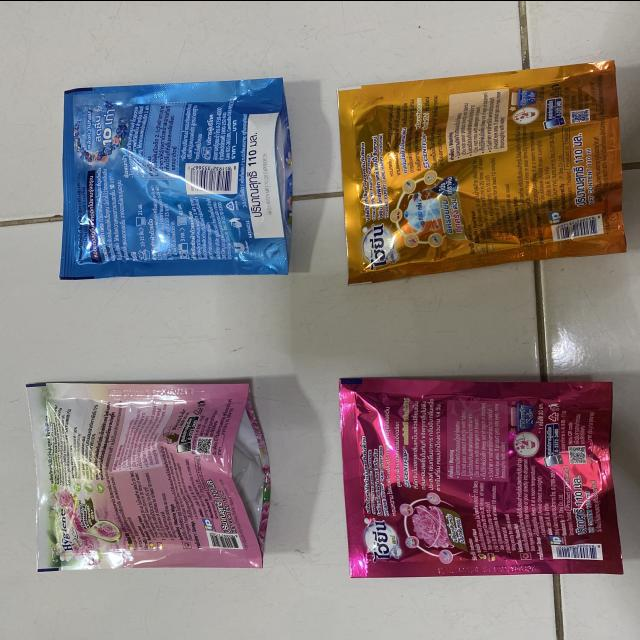plastik: (338, 60, 625, 283), (339, 378, 623, 575), (60, 77, 292, 279), (27, 382, 270, 570)
